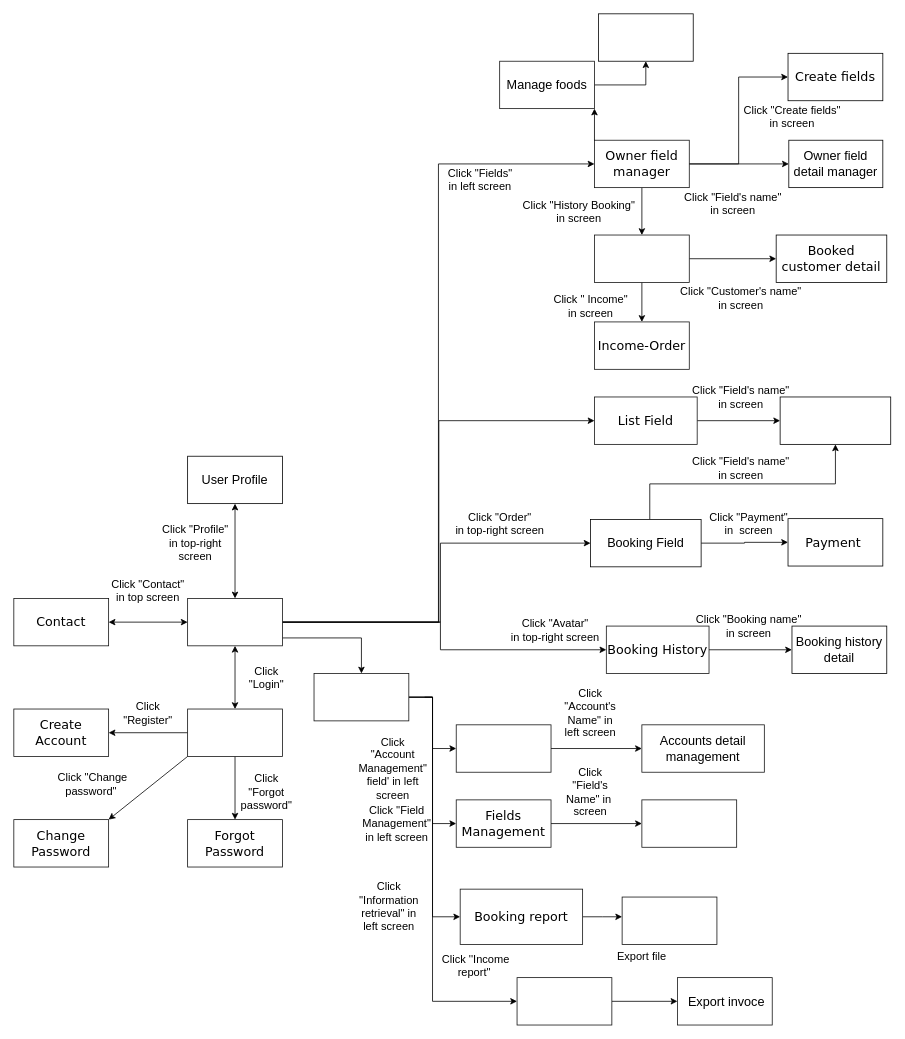
The diagram is 905 pixels wide and 1039 high, and some of its shapes have lost their labels. The centre of each missing label's shape, as x and y in pixels:
Accounts Management: (503,748)
Admin Dashboard: (361,697)
Booking detail: (669,920)
Create foods: (645,37)
Field Detail: (835,420)
Fields detail management: (689,823)
Home: (234,622)
Income report: (564,1001)
Manage booking history: (641,258)
Sign in: (234,732)
